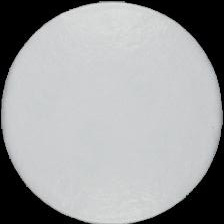59762-0541: (0, 0, 224, 224)
